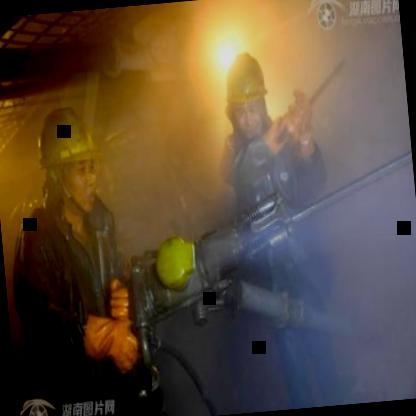helmet: (33, 105, 104, 218), (216, 40, 274, 148)
